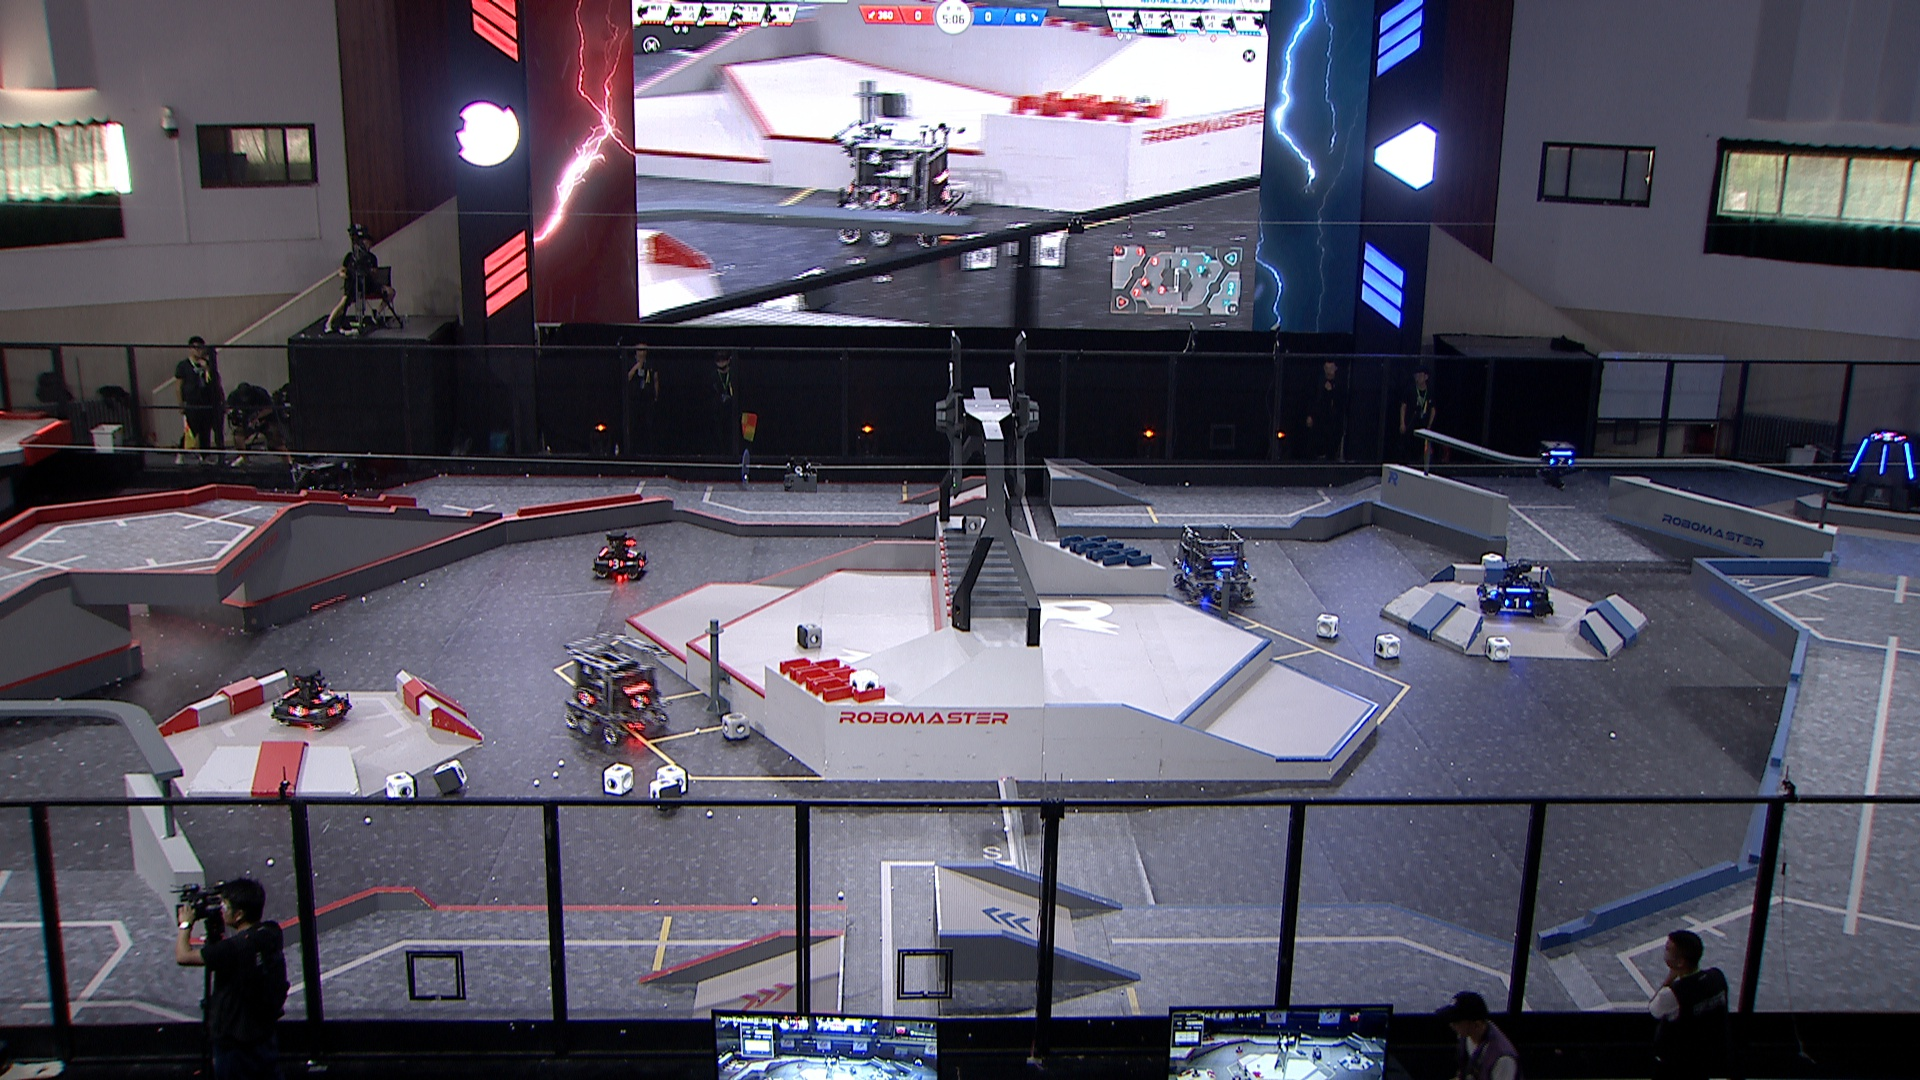armor: (1847, 436, 1869, 473), (1903, 442, 1916, 481), (575, 688, 597, 708), (311, 690, 338, 705), (1505, 595, 1532, 609), (629, 694, 651, 711), (1547, 456, 1575, 469), (324, 700, 345, 717), (1878, 443, 1888, 476), (287, 704, 311, 717), (607, 556, 626, 570), (626, 547, 638, 559)
base: (1826, 429, 1920, 512)
car: (558, 632, 671, 744), (1168, 522, 1257, 605), (268, 669, 353, 732), (1474, 560, 1553, 622), (286, 458, 363, 517), (591, 527, 647, 582)
ignore: (831, 117, 965, 248), (1874, 431, 1899, 443)
watcher: (1534, 440, 1576, 491)
